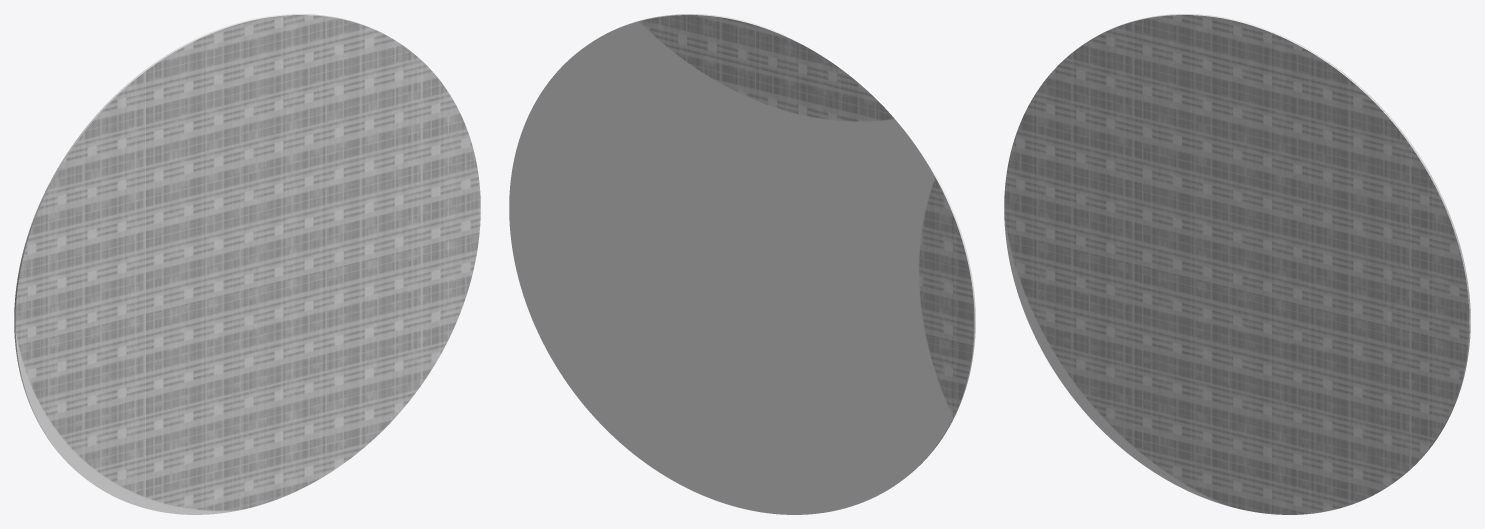
The model's file is SiliconWafer.glb.
The picture shows the model from 3 angles, left to right: view 1: azimuth 30°, elevation 25°; view 2: azimuth 150°, elevation 25°; view 3: azimuth 330°, elevation 25°; orthographic projection.
Visible parts, largest first — view 1: Cylinder; view 2: Cylinder; view 3: Cylinder.
Boxes of the visible parts, left/top/right/bottom form: Cylinder: left=14, top=14, right=480, bottom=514; Cylinder: left=509, top=14, right=975, bottom=514; Cylinder: left=1004, top=14, right=1470, bottom=514.
Size of the model in its own units: 0.1 by 0.1 by 0.0005.
1 material, 1 textured.
